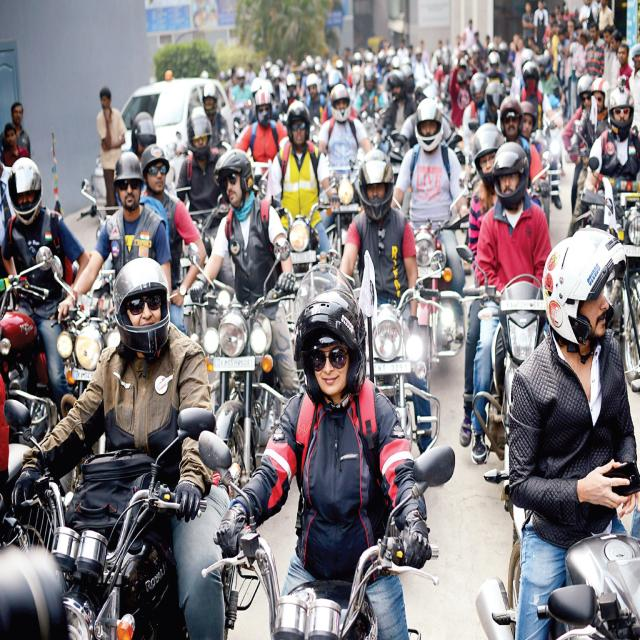motorcycle: (5, 257, 228, 639), (476, 227, 640, 639), (191, 150, 299, 480), (460, 124, 550, 465)
